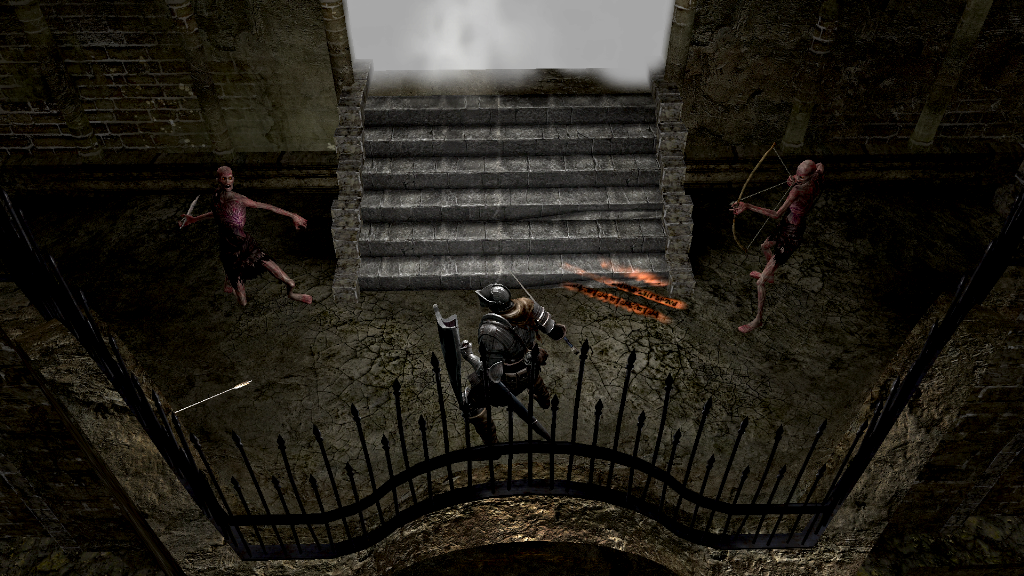hollow: (180, 165, 314, 308), (732, 157, 825, 333)
player: (431, 271, 567, 461)
